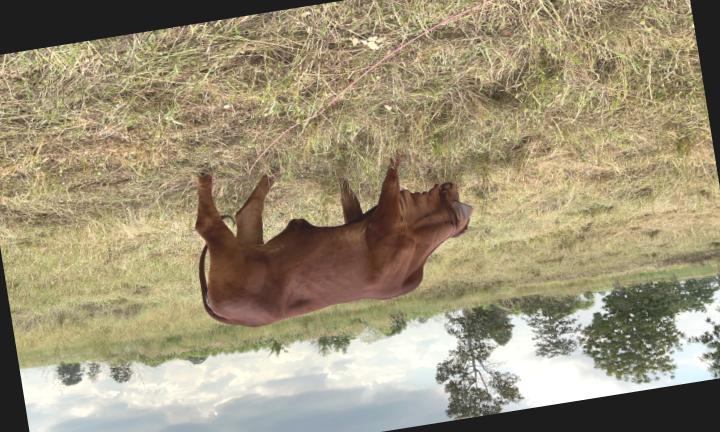Brahman: (196, 159, 472, 327)
